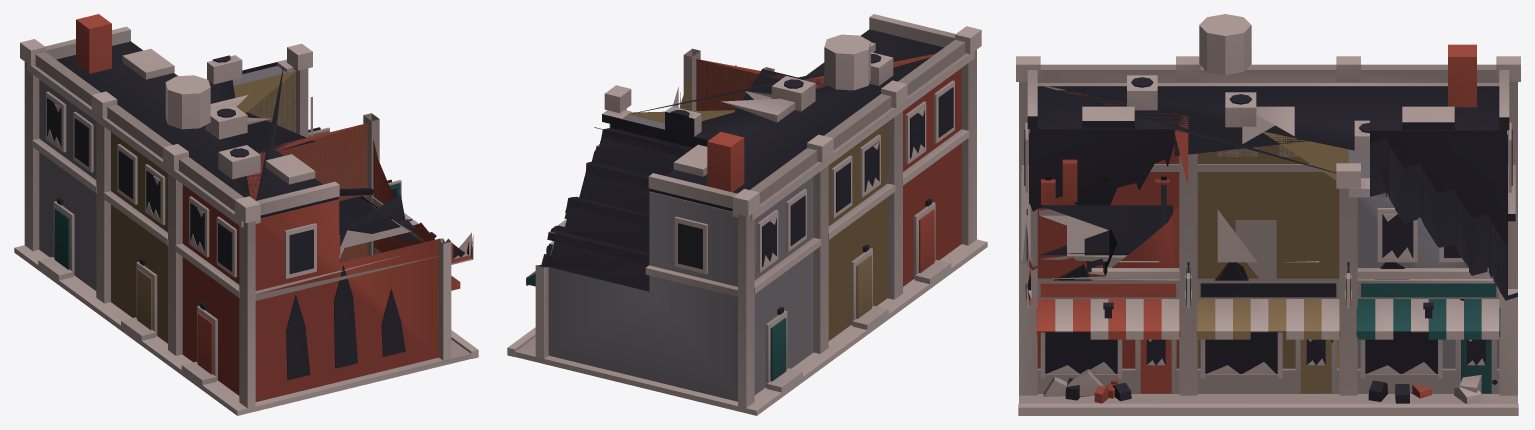
3 renders of one model, left to right at view 1: azimuth 30°, elevation 25°; view 2: azimuth 150°, elevation 25°; view 3: azimuth 270°, elevation 25°, orthographic. The views are drawn at different scales.
Parts seen in each view (by area): view 1: body_pal_sidewalk.002, body_pal_brick.017, body_pal_uiDark, body_pal_khakiSeam, body_pal_pantsLight, body_pal_tealDark; view 2: body_pal_sidewalk.002, body_pal_uiDark, body_pal_pantsLight, body_pal_brick.017, body_pal_khakiSeam, body_pal_tealDark; view 3: body_pal_sidewalk.002, body_pal_uiDark, body_pal_khakiSeam, body_pal_brick.017, body_pal_tealDark, body_pal_pantsLight.
Boxes of the visible parts, <box> form: body_pal_sidewalk.002: <box>14,26,478,415</box>; body_pal_brick.017: <box>76,14,472,401</box>; body_pal_uiDark: <box>47,41,468,380</box>; body_pal_khakiSeam: <box>111,70,367,343</box>; body_pal_pantsLight: <box>39,66,295,290</box>; body_pal_tealDark: <box>54,183,400,269</box>; body_pal_sidewalk.002: <box>507,14,987,415</box>; body_pal_uiDark: <box>536,29,953,314</box>; body_pal_pantsLight: <box>548,115,813,401</box>; body_pal_brick.017: <box>696,53,961,286</box>; body_pal_khakiSeam: <box>631,60,887,340</box>; body_pal_tealDark: <box>526,245,786,381</box>; body_pal_sidewalk.002: <box>1016,14,1520,415</box>; body_pal_uiDark: <box>1024,77,1517,403</box>; body_pal_khakiSeam: <box>1196,131,1350,393</box>; body_pal_brick.017: <box>1026,44,1476,403</box>; body_pal_tealDark: <box>1186,267,1500,393</box>; body_pal_pantsLight: <box>1348,130,1507,368</box>.
Bounding box in the file's own units: 10.1 × 10.14 × 16.4.
